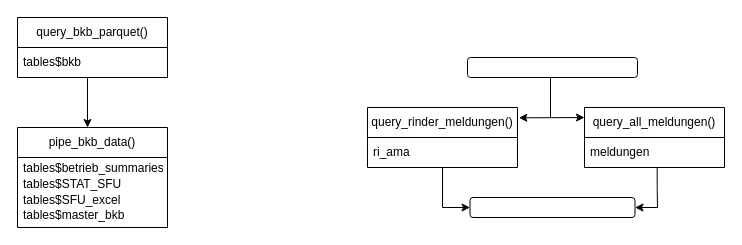
The diagram is 742 pixels wide and 245 high, and some of its shapes have lost their labels. The shapes that lost their labels are listed below. From the top down, each one's centre as x and y in pixels, then its label:
At point 552,67: "query_meldungen_framework()".
At point 552,207: "tables$VIS_AMA_unprocesed".
